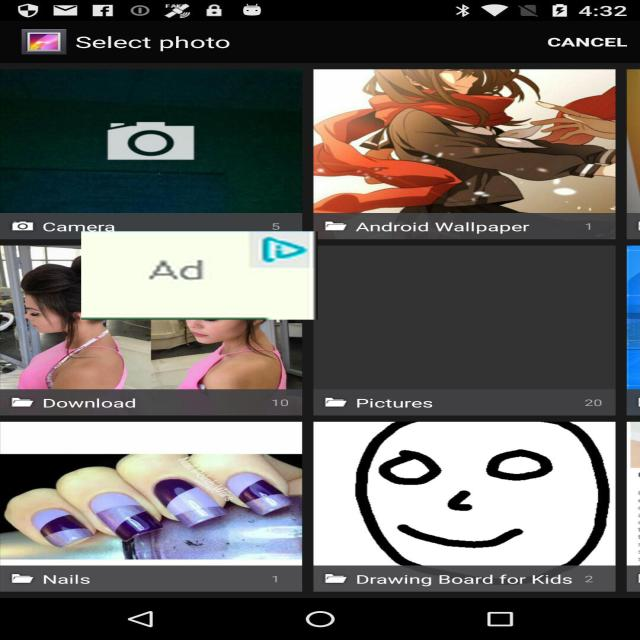sneaking: (81, 231, 318, 320)
